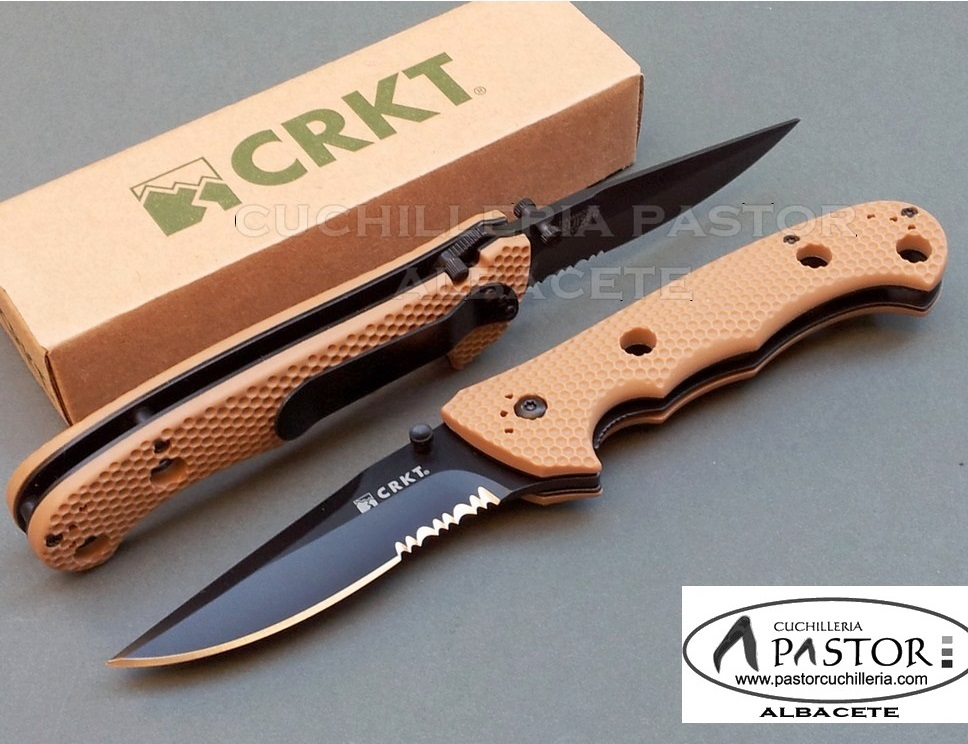knife: (87, 395, 549, 676), (528, 109, 809, 285)
